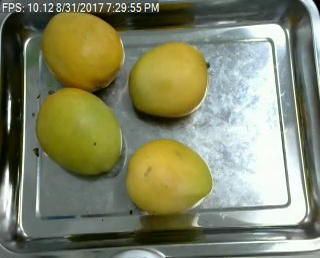Mango: (34, 88, 121, 174), (42, 9, 126, 90), (127, 140, 211, 215), (129, 40, 208, 113)
